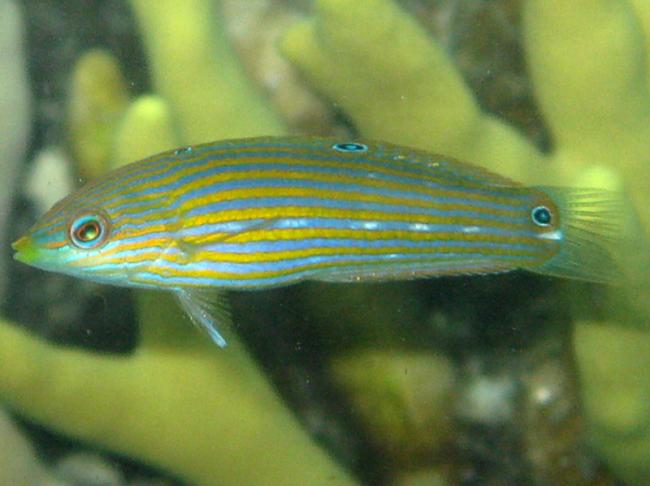fish: (10, 136, 625, 350)
